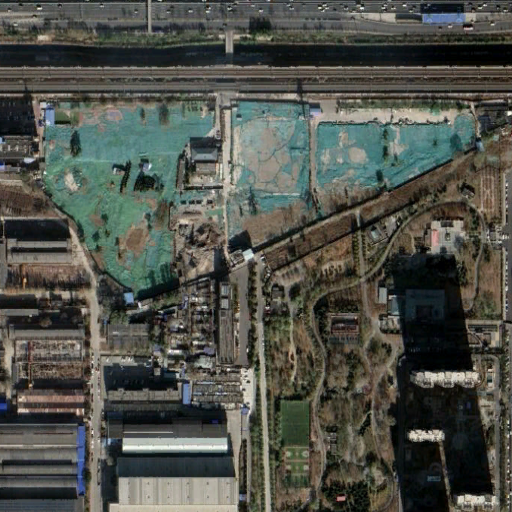cw: (38, 93, 221, 304), (231, 102, 475, 250)
